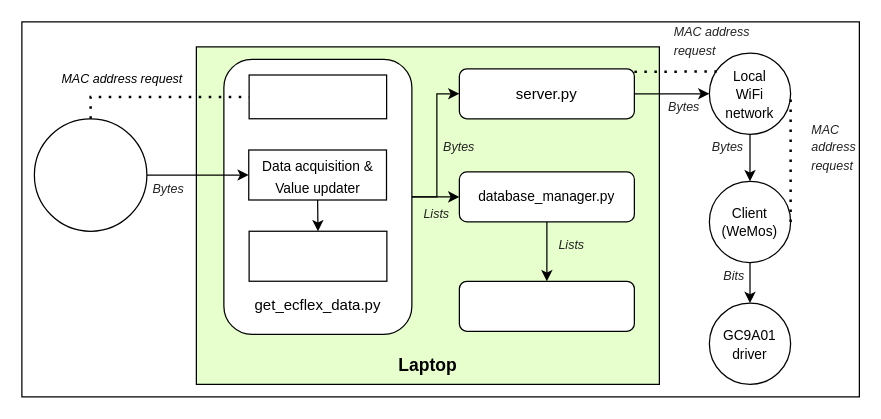
Some shapes in this 881 by 419 pixel diagram are drawn without their labels. The box of each missing label's shape, as (x1, y1, x2, y2) in pixels:
Bluetooth scanner: (248, 74, 387, 119)
Data processing: (248, 230, 387, 281)
database.db: (458, 280, 634, 331)
Ec-Flex: (33, 118, 147, 231)
